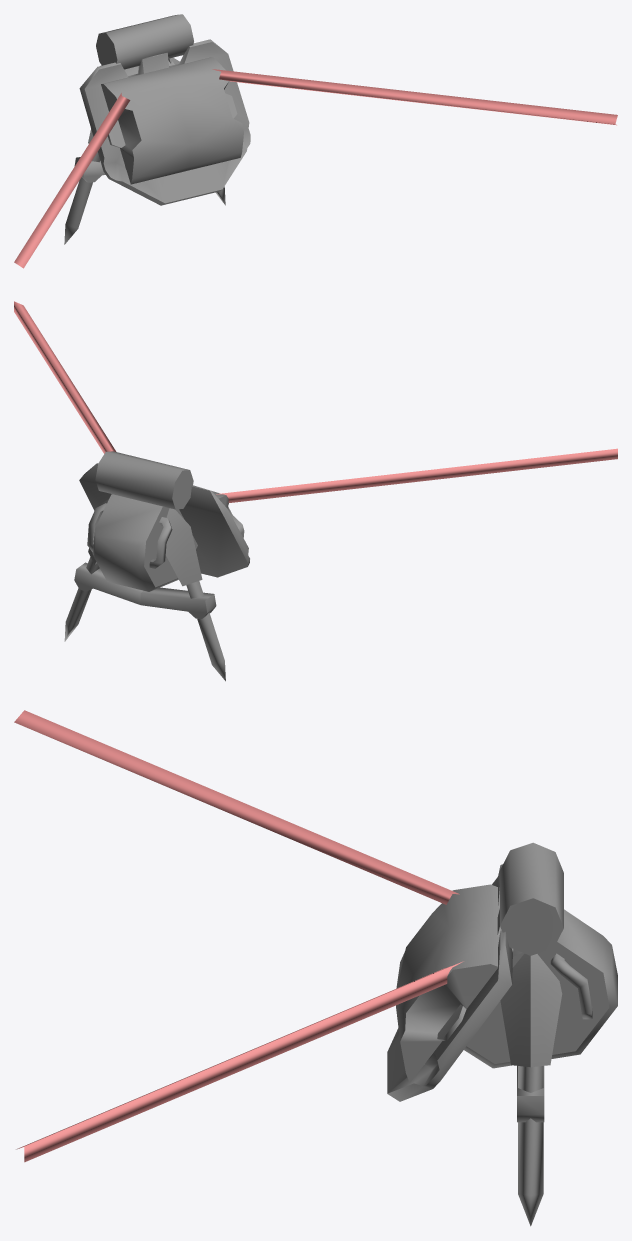
The model's file is ASE_Claymore.gltf.
3 views of the same model, one above another, from view 1: azimuth 30°, elevation 25°; view 2: azimuth 150°, elevation 25°; view 3: azimuth 270°, elevation 25° (orthographic). The views are drawn at different scales.
Visible parts, largest first — view 1: ASE_Claymore; view 2: ASE_Claymore; view 3: ASE_Claymore.
Boxes of the visible parts, bbox=[...] form: ASE_Claymore: bbox=[14, 14, 617, 268]; ASE_Claymore: bbox=[14, 301, 617, 681]; ASE_Claymore: bbox=[14, 710, 617, 1226].
Size of the model in its own units: 1.38 by 0.4397 by 0.8068.
